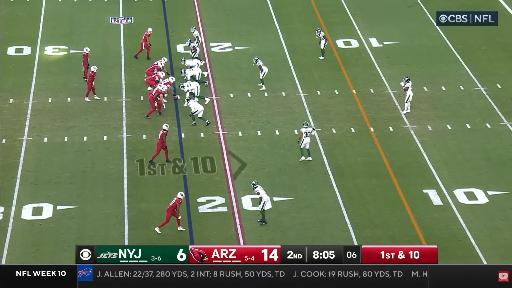Helmet: (159, 85, 167, 92), (177, 192, 184, 199), (168, 76, 175, 83), (180, 57, 186, 65), (403, 77, 410, 83), (253, 56, 259, 63), (252, 181, 258, 188), (91, 66, 97, 72), (163, 124, 169, 130), (159, 72, 165, 78), (316, 28, 322, 34), (179, 83, 184, 90), (186, 38, 191, 45), (191, 26, 196, 32), (84, 48, 90, 53), (158, 62, 163, 68), (181, 69, 185, 76), (186, 97, 191, 102), (162, 58, 167, 63), (148, 28, 152, 34), (303, 122, 309, 126)
Jersey: (300, 127, 315, 142), (185, 68, 202, 80), (254, 186, 269, 199), (187, 99, 203, 111), (168, 197, 182, 210), (185, 59, 201, 68), (401, 82, 412, 95), (184, 82, 198, 92), (148, 62, 162, 71), (151, 88, 164, 97), (158, 130, 167, 143), (87, 71, 95, 84), (141, 32, 150, 43), (189, 42, 198, 53), (147, 74, 161, 81), (160, 79, 172, 87), (256, 60, 265, 70), (317, 31, 326, 39), (83, 52, 88, 65), (193, 30, 200, 39), (154, 60, 162, 64)
Player: (155, 192, 185, 233), (149, 124, 171, 164), (252, 181, 270, 225), (145, 85, 167, 118), (186, 97, 210, 125), (298, 122, 315, 161), (179, 82, 210, 103), (135, 28, 152, 59), (85, 66, 100, 101), (181, 68, 208, 86), (400, 77, 413, 114), (254, 57, 267, 90), (186, 39, 203, 63), (145, 72, 165, 90), (316, 28, 327, 59), (155, 57, 170, 75), (146, 61, 163, 76), (83, 48, 90, 81), (181, 58, 203, 68), (191, 26, 202, 46), (160, 77, 175, 90)
